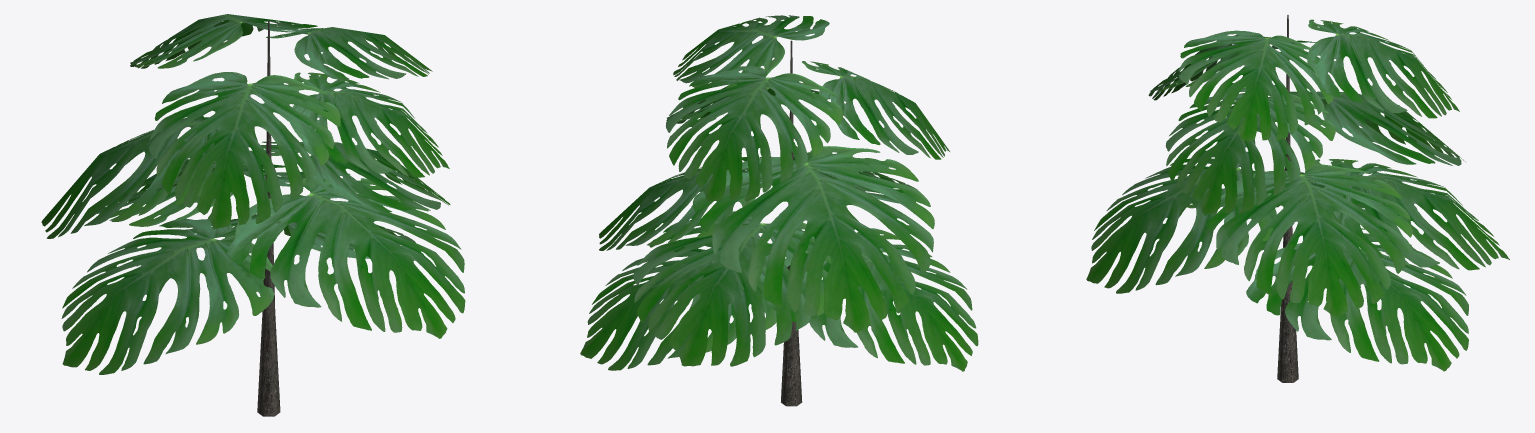
File: Vegetation-03.fbx
3 renders of one model, left to right at view 1: azimuth 30°, elevation 25°; view 2: azimuth 150°, elevation 25°; view 3: azimuth 270°, elevation 25°, orthographic. The views are drawn at different scales.
Parts seen in each view (by area): view 1: Plane; view 2: Plane; view 3: Plane.
Part boxes in pixels (x1,y1,x2,y2): Plane: (41,14,465,416); Plane: (580,15,978,406); Plane: (1086,15,1509,382).
Bounding box in the file's own units: 2.35 × 1.99 × 2.32.
